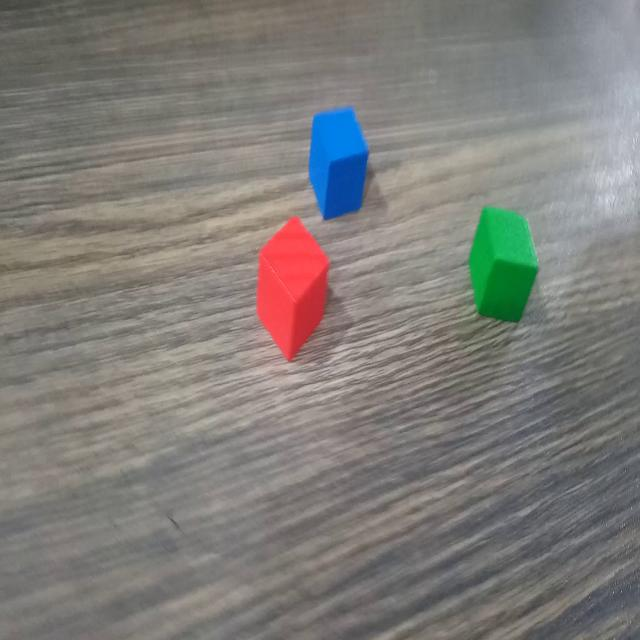cube: (254, 212, 332, 362), (465, 202, 540, 327), (304, 105, 371, 221)
